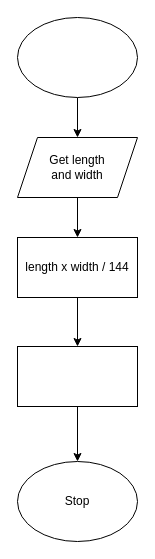
Some shapes in this 155 by 559 pixel diagram are drawn without their labels. The centre of each missing label's shape, as x and y in pixels:
Return: point 77,376
Start: point 77,57
